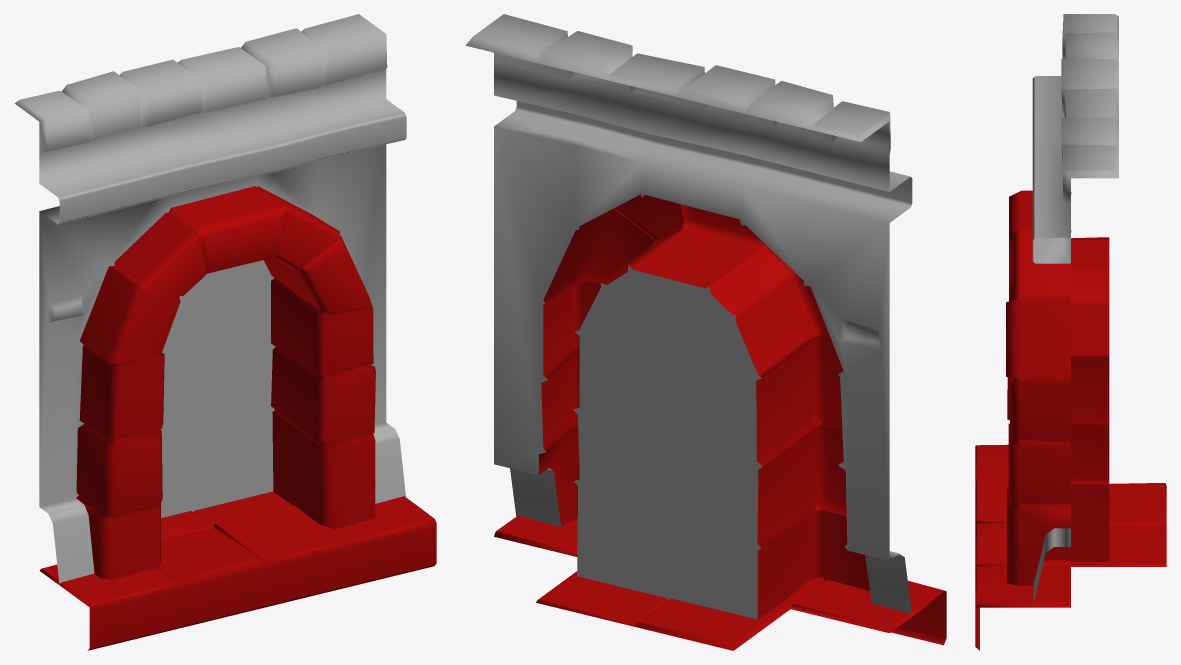
The model's file is SM_castle_wall_doorway_low.fbx.
3 views of the same model, side by side, from view 1: azimuth 30°, elevation 25°; view 2: azimuth 150°, elevation 25°; view 3: azimuth 270°, elevation 25° (orthographic). The views are drawn at different scales.
Parts seen in each view (by area): view 1: SM_castle_wall_doorway_low, SM_castle_wall_doorway_arch_low, SM_castle_wall_doorway_floor_low; view 2: SM_castle_wall_doorway_low, SM_castle_wall_doorway_arch_low, SM_castle_wall_doorway_floor_low; view 3: SM_castle_wall_doorway_arch_low, SM_castle_wall_doorway_low, SM_castle_wall_doorway_floor_low.
Boxes of the visible parts, bbox=[...] form: SM_castle_wall_doorway_low: bbox=[14, 14, 406, 584]; SM_castle_wall_doorway_arch_low: bbox=[76, 186, 375, 579]; SM_castle_wall_doorway_floor_low: bbox=[39, 491, 436, 650]; SM_castle_wall_doorway_low: bbox=[465, 14, 912, 619]; SM_castle_wall_doorway_arch_low: bbox=[539, 194, 869, 618]; SM_castle_wall_doorway_floor_low: bbox=[494, 515, 946, 650]; SM_castle_wall_doorway_arch_low: bbox=[1006, 190, 1109, 585]; SM_castle_wall_doorway_low: bbox=[1032, 14, 1118, 602]; SM_castle_wall_doorway_floor_low: bbox=[975, 444, 1166, 650].
Bounding box in the file's own units: 400 × 555 × 200.
